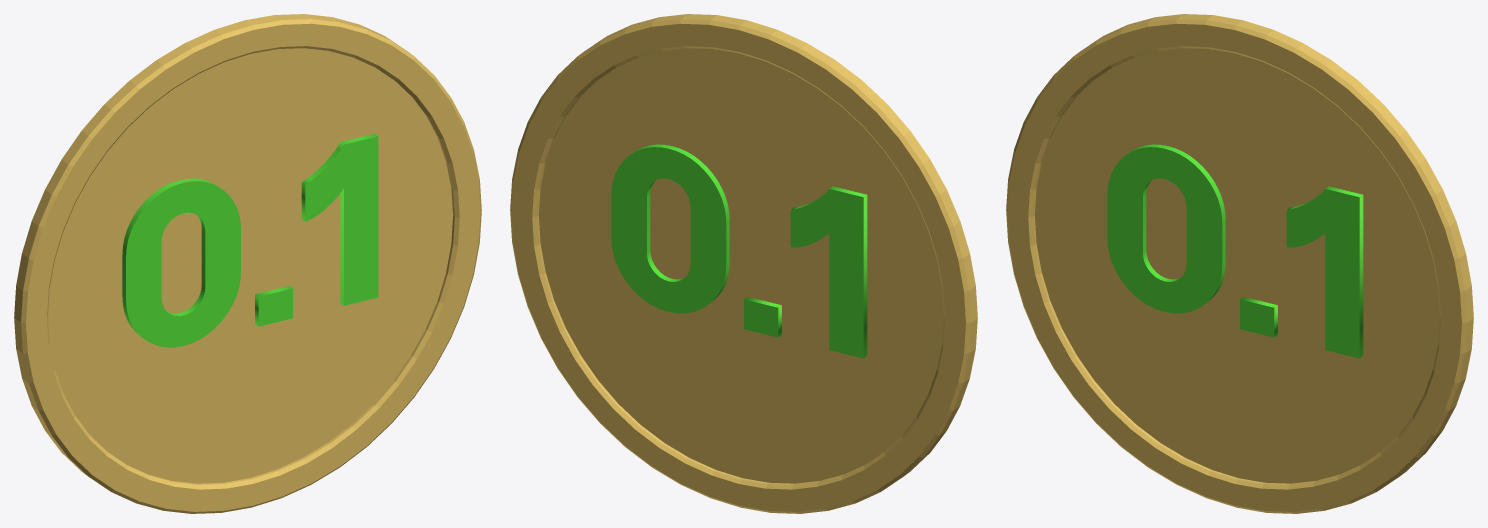
Rendered from coin2.fbx.
3 views of the same model, side by side, from view 1: azimuth 30°, elevation 25°; view 2: azimuth 150°, elevation 25°; view 3: azimuth 330°, elevation 25° (orthographic).
Visible parts, largest first — view 1: Cylinder.001; view 2: Cylinder.001; view 3: Cylinder.001.
Boxes of the visible parts, bbox=[...] form: Cylinder.001: bbox=[14, 14, 481, 513]; Cylinder.001: bbox=[510, 14, 977, 513]; Cylinder.001: bbox=[1006, 14, 1473, 513].
Size of the model in its own units: 59.63 by 59.63 by 2.41.
